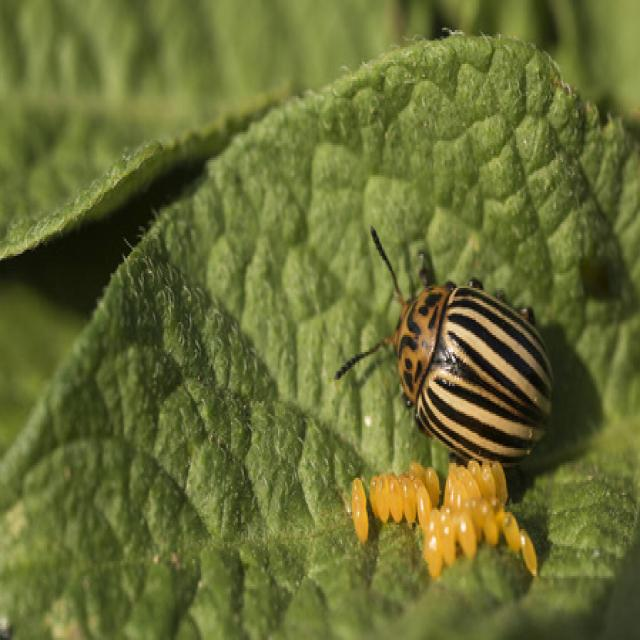ShuCaiHuaBanChong-Grown-: (373, 255, 573, 483)
